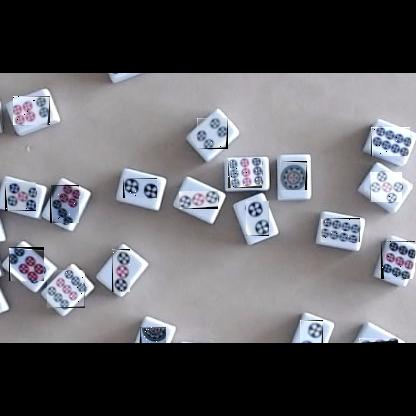1p: (280, 161, 307, 190), (140, 327, 166, 343)
2p: (245, 201, 269, 236), (123, 178, 157, 198), (300, 320, 323, 343)
3p: (112, 249, 130, 292), (179, 191, 218, 209), (359, 338, 398, 343)
4p: (197, 118, 228, 149)
5p: (370, 172, 402, 202), (5, 182, 36, 211)
6p: (9, 247, 44, 281), (13, 96, 50, 125)
7p: (50, 185, 79, 223)
8p: (371, 127, 410, 156), (321, 218, 360, 242)
9p: (47, 270, 85, 308), (381, 241, 415, 279), (228, 158, 262, 188)
